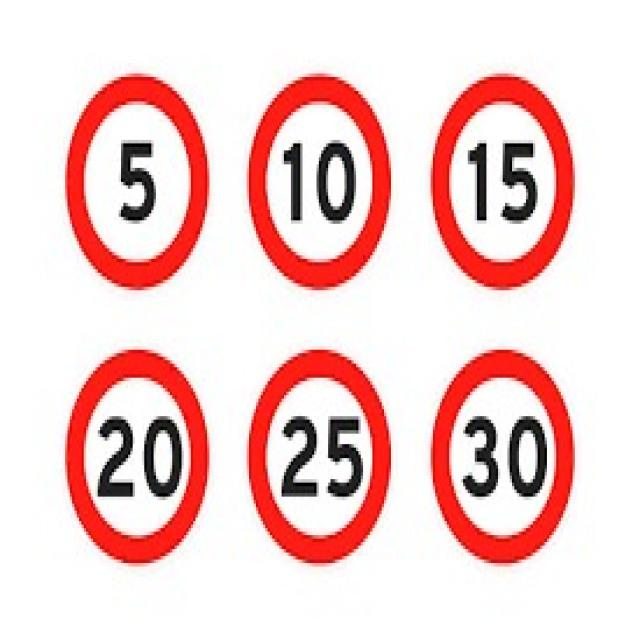speed_limit_20: (62, 350, 211, 566)
speed_limit_30: (426, 342, 577, 567)
